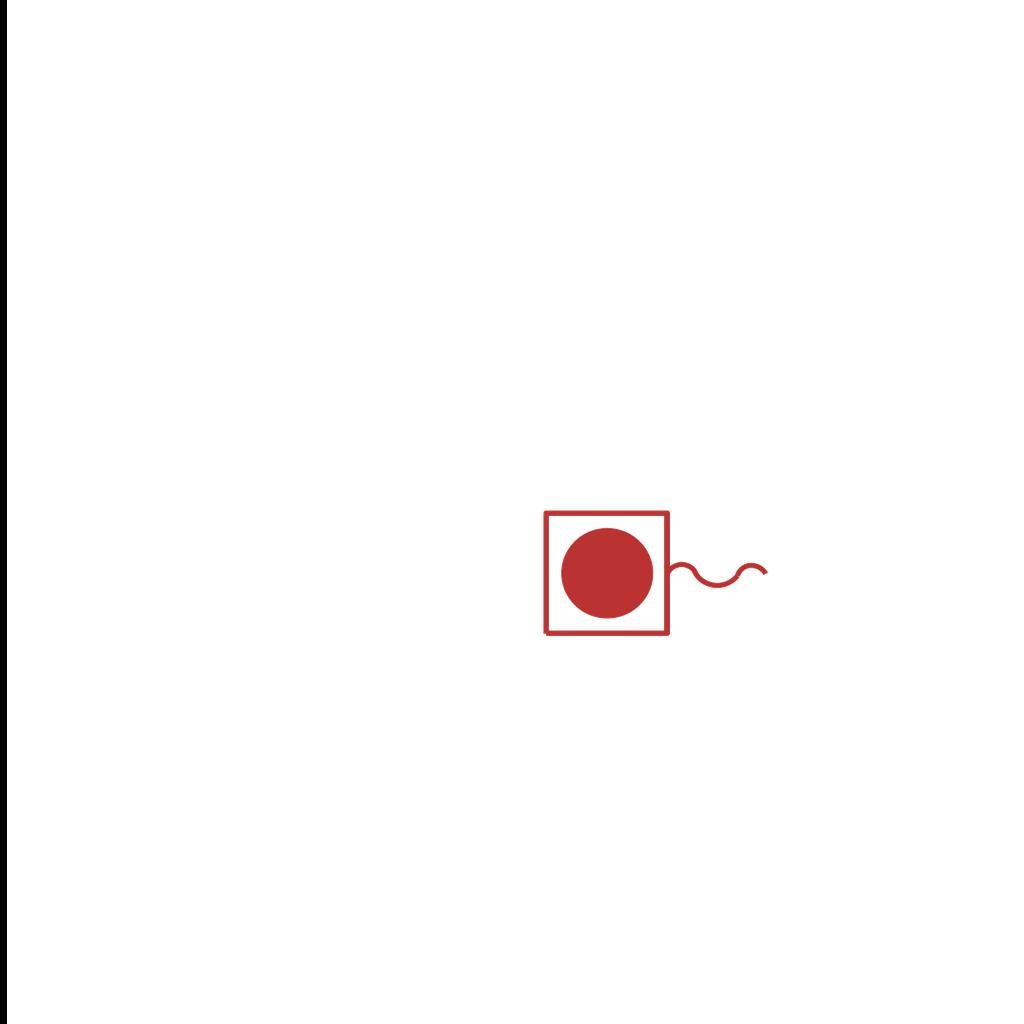Zugtaster: (535, 503, 779, 647)
